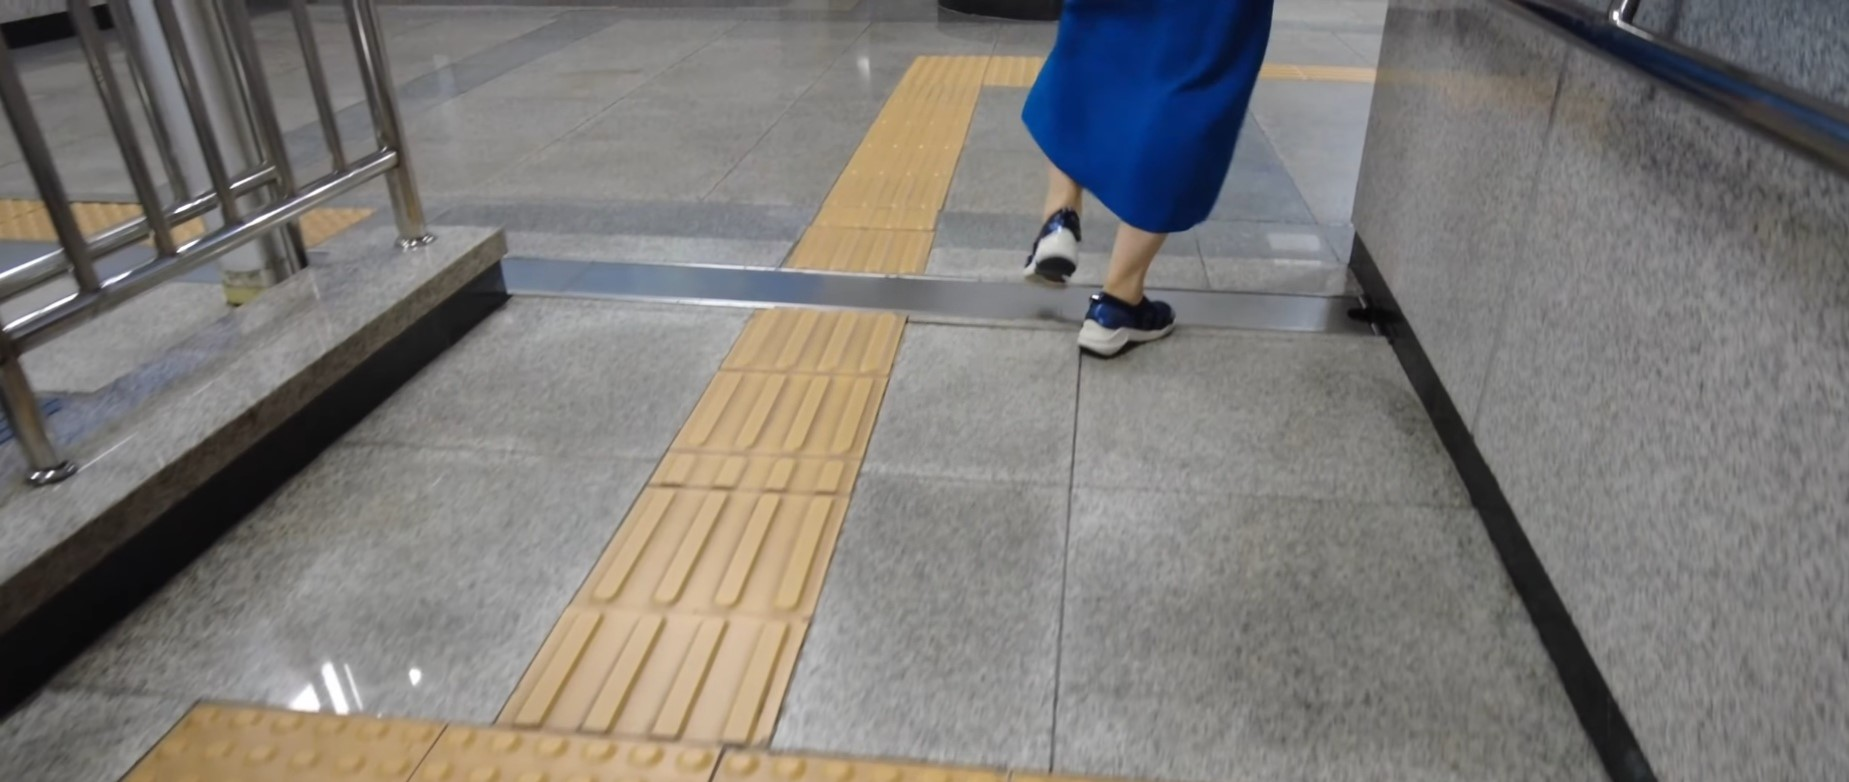guideBlock: (619, 489, 862, 606), (704, 372, 867, 514), (558, 609, 771, 715), (745, 309, 891, 387)
